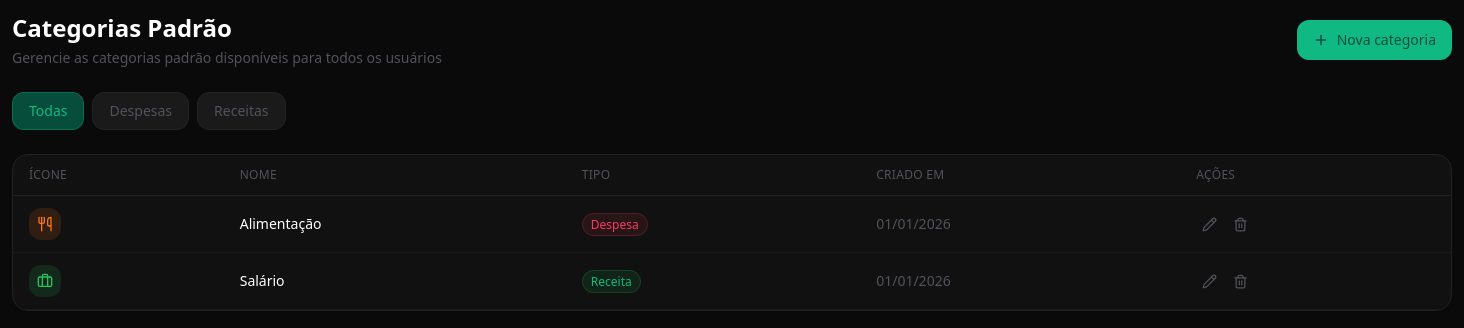
Test: AdminCategoriesPage › deve filtrar apenas despesas ao clicar em Despesas
Click the button "Despesas": click(141, 111) 92,92 -> 189,130
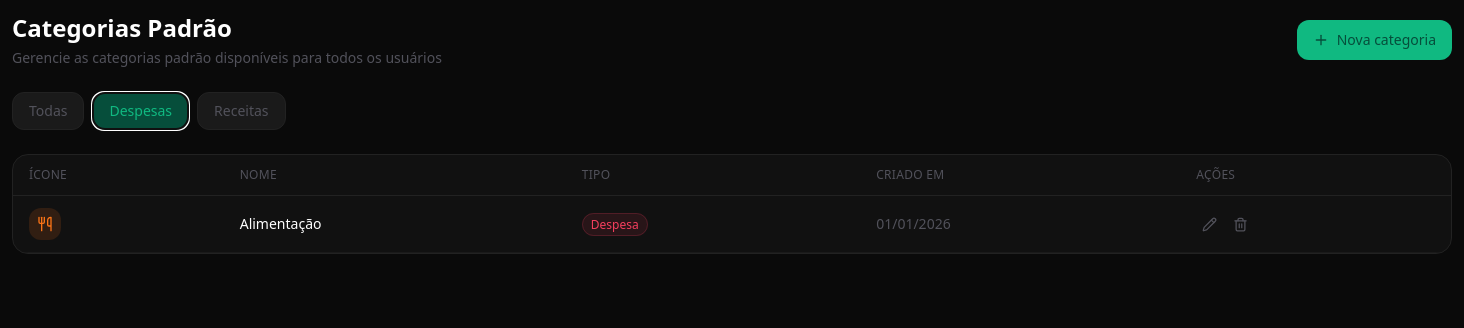
Expected: the text "Alimentação" is shown, 224,196 -> 566,252
Now the text "Salário" is gone
